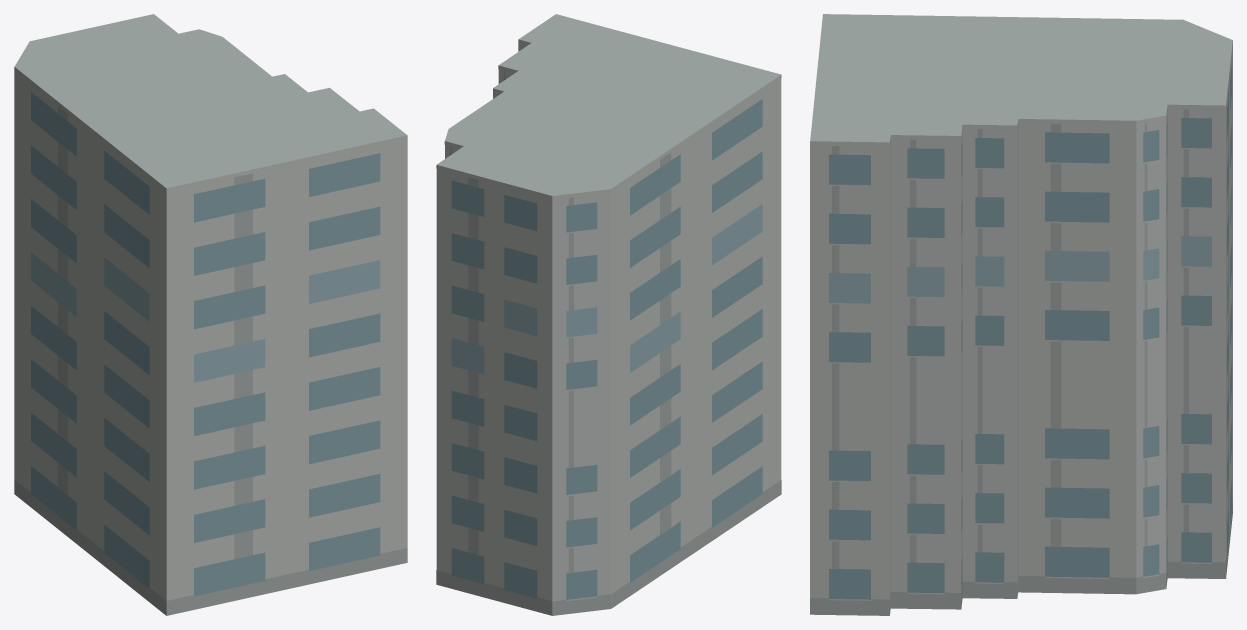
The model's file is survey-upis-32749024.glb.
3 renders of one model, left to right at view 1: azimuth 30°, elevation 25°; view 2: azimuth 150°, elevation 25°; view 3: azimuth 270°, elevation 25°, orthographic. The views are drawn at different scales.
Visible parts, largest first — view 1: survey-upis-32749024.tmp; view 2: survey-upis-32749024.tmp; view 3: survey-upis-32749024.tmp.
Boxes of the visible parts, <box> form: survey-upis-32749024.tmp: <box>14,14,407,615</box>; survey-upis-32749024.tmp: <box>436,14,781,615</box>; survey-upis-32749024.tmp: <box>810,14,1232,615</box>.
Bounding box in the file's own units: 15.48 × 26.6 × 21.53.
